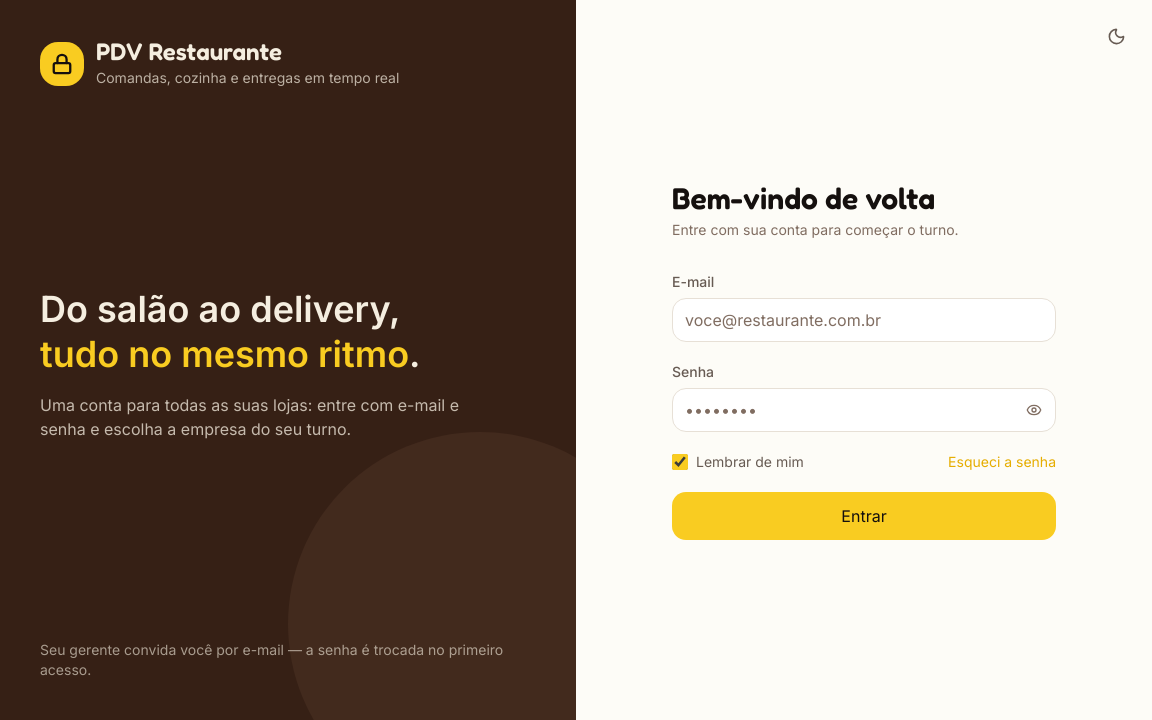
it: LoginPage — e-mail + senha › credencial recusada mostra o erro genérico (não enumera conta)
The image size is (1152, 720).
Type "ana@pdv.local" into the field labelled "E-mail".
click(864, 320); type("ana@pdv.local")  # box 672,298 -> 1056,342
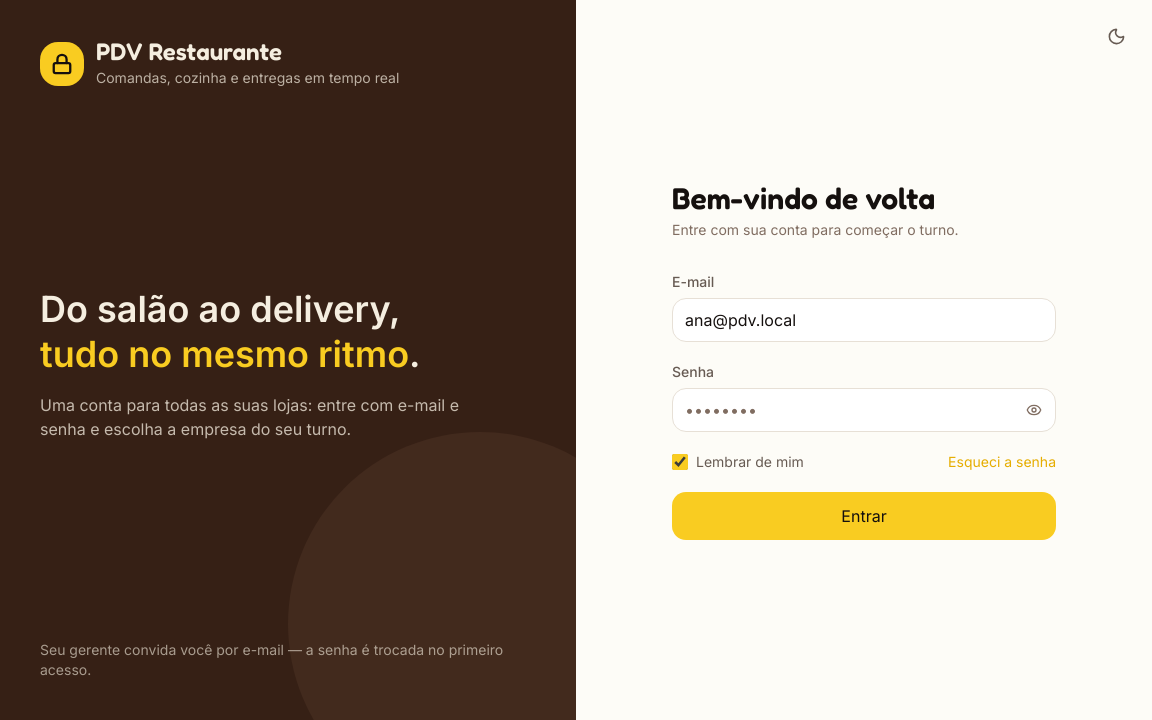
Type "segredo" into the password field labelled "Senha".
click(864, 410); type("segredo")  # box 672,388 -> 1056,432
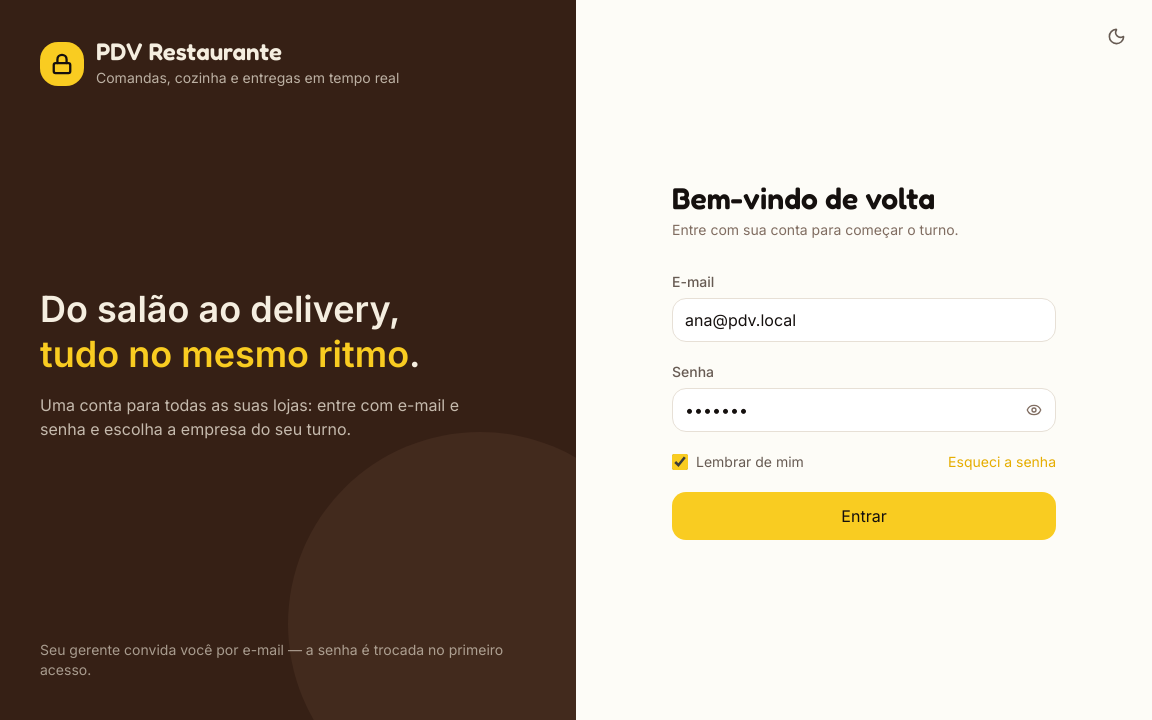
Click the checkbox labelled "Lembrar de mim".
click(680, 462)  # box 672,454 -> 688,470
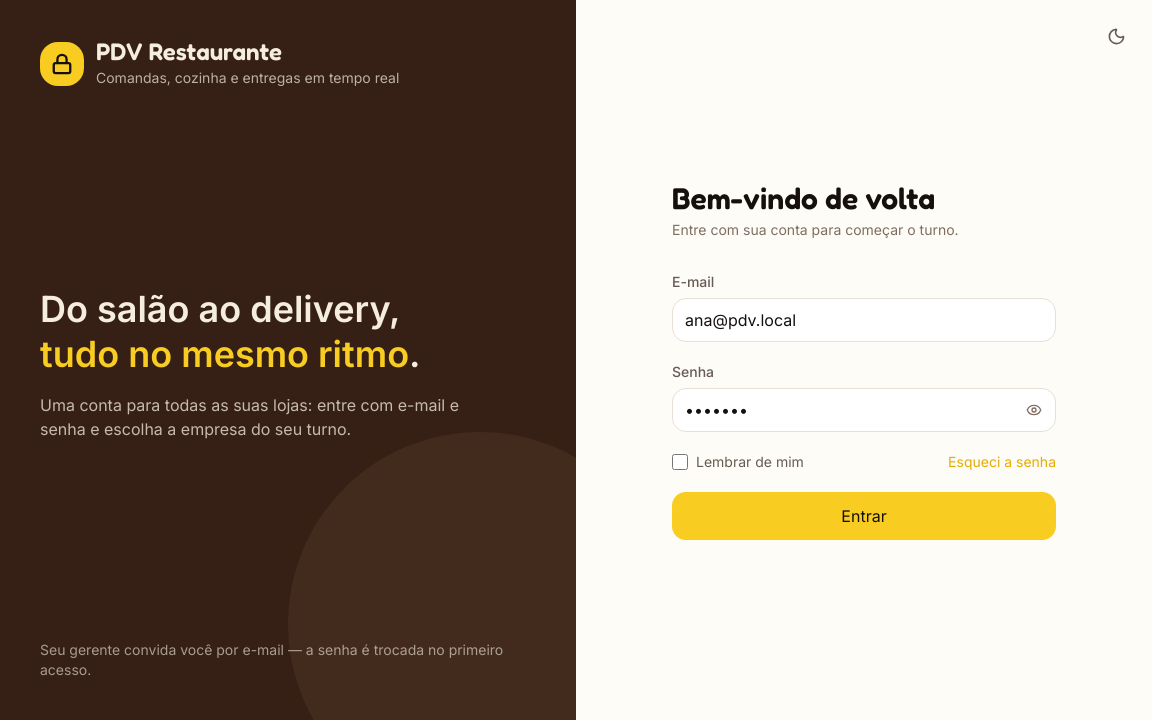
Click the button "Entrar".
click(864, 516)  # box 672,492 -> 1056,540
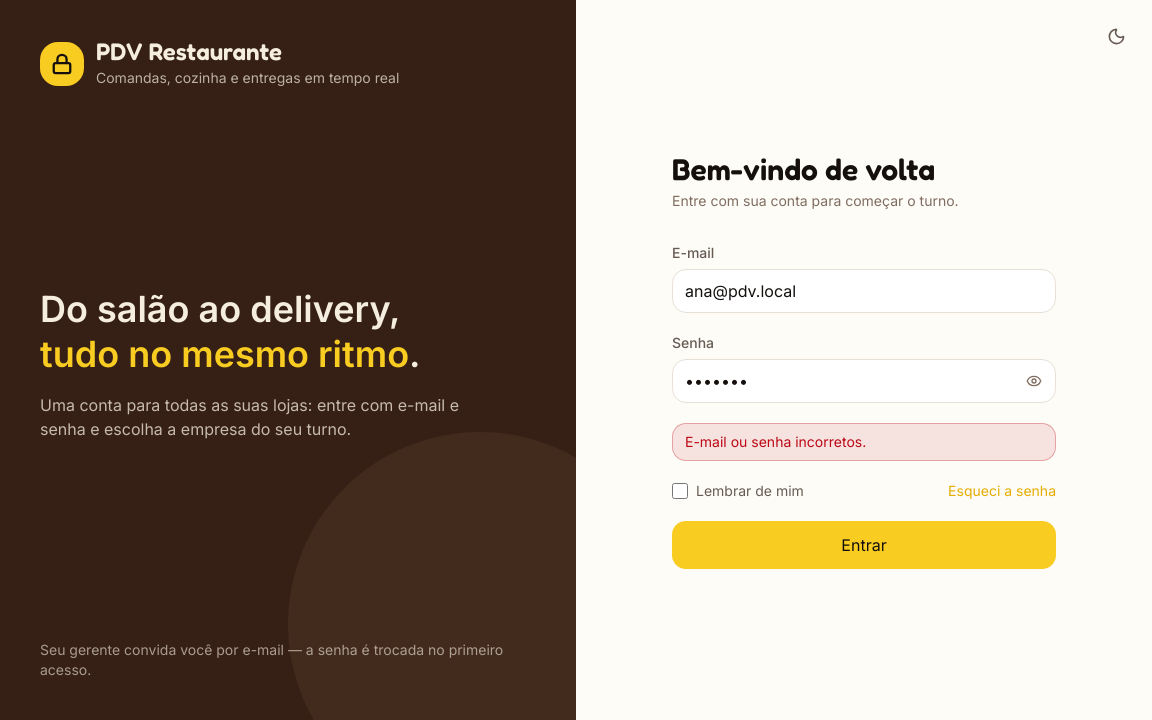
Expected: the text "E-mail ou senha incorretos." is shown, 672,423 -> 1056,461
